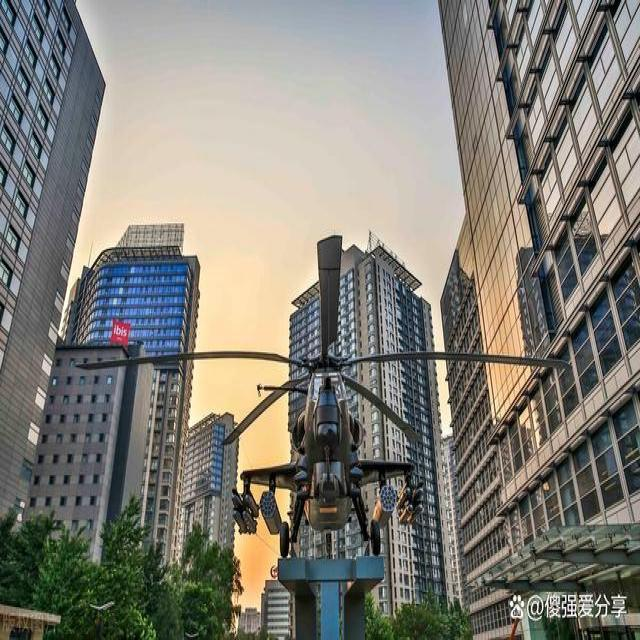MIL_HELO: (65, 228, 572, 640)
